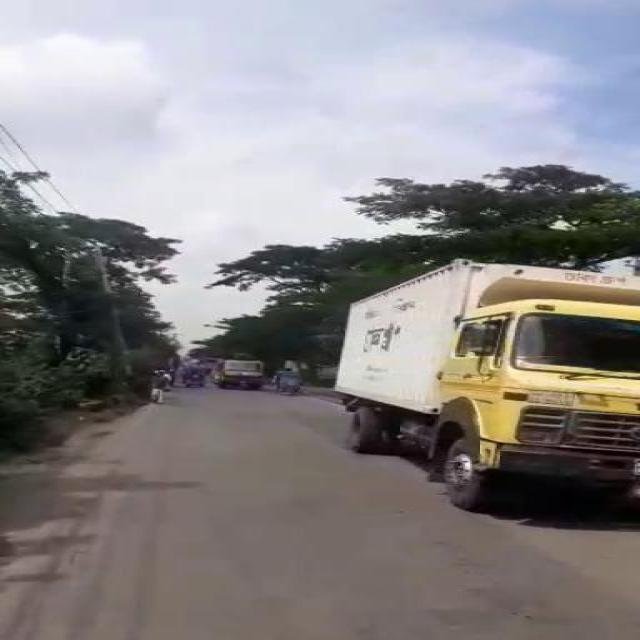auto rickshaw: (272, 370, 302, 392)
truck: (331, 264, 634, 520), (218, 358, 262, 387)
